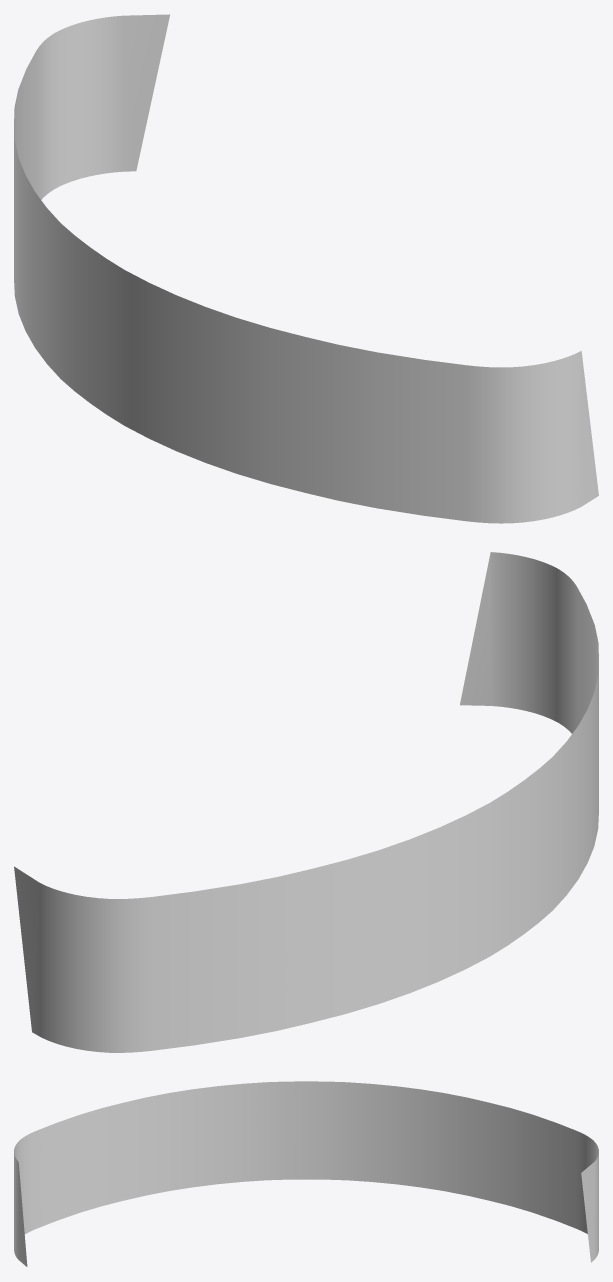
Rendered from CD_JZ_Deco_screen02.FBX.
3 renders of one model, top to bottom at view 1: azimuth 30°, elevation 25°; view 2: azimuth 150°, elevation 25°; view 3: azimuth 270°, elevation 25°, orthographic. The views are drawn at different scales.
Visible parts, largest first — view 1: CD_JZ_Deco_screen02; view 2: CD_JZ_Deco_screen02; view 3: CD_JZ_Deco_screen02.
Boxes of the visible parts, x1=… form: CD_JZ_Deco_screen02: x1=14, y1=14, x2=598, y2=523; CD_JZ_Deco_screen02: x1=14, y1=552, x2=598, y2=1052; CD_JZ_Deco_screen02: x1=14, y1=1081, x2=598, y2=1266.
Bounding box in the file's own units: 1165 × 582 × 3143.
1 material, 1 textured.
